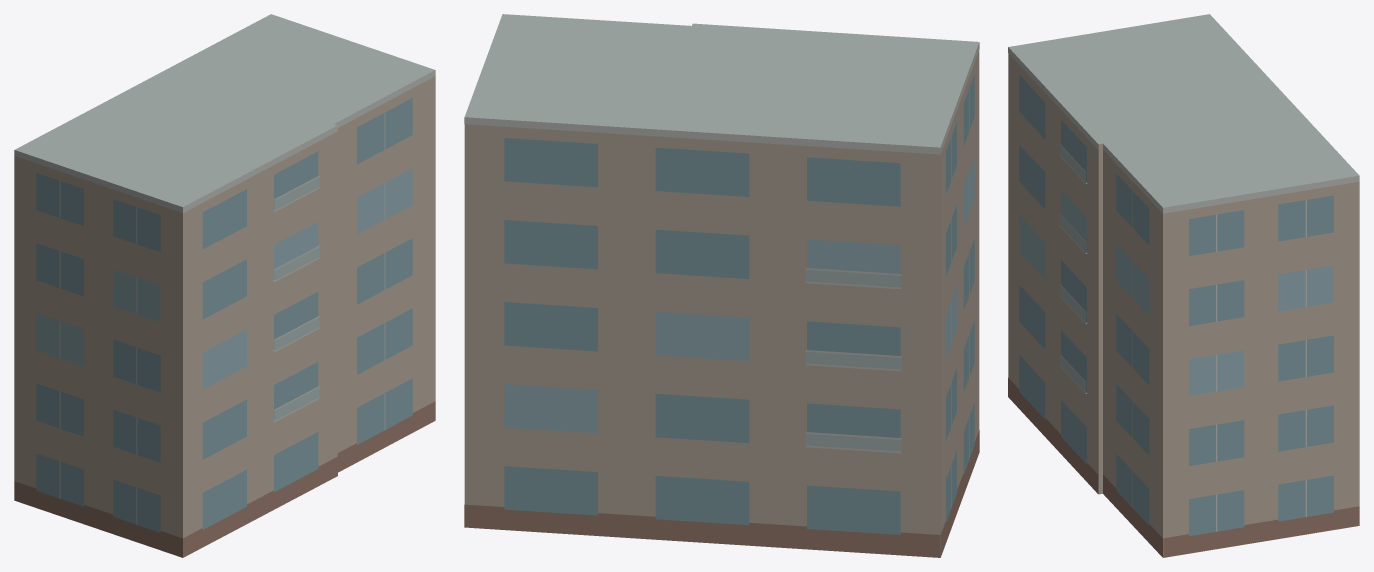
The model's file is survey-upis-32490442.glb.
The picture shows the model from 3 angles, left to right: view 1: azimuth 30°, elevation 25°; view 2: azimuth 150°, elevation 25°; view 3: azimuth 270°, elevation 25°; orthographic projection. The views are drawn at different scales.
Visible parts, largest first — view 1: survey-upis-32490442.tmp; view 2: survey-upis-32490442.tmp; view 3: survey-upis-32490442.tmp.
Part boxes in pixels (x1,y1,x2,y2): survey-upis-32490442.tmp: (14,14,435,557); survey-upis-32490442.tmp: (464,14,979,557); survey-upis-32490442.tmp: (1008,14,1359,557).
Bounding box in the file's own units: 16.93 × 14.25 × 12.97.
